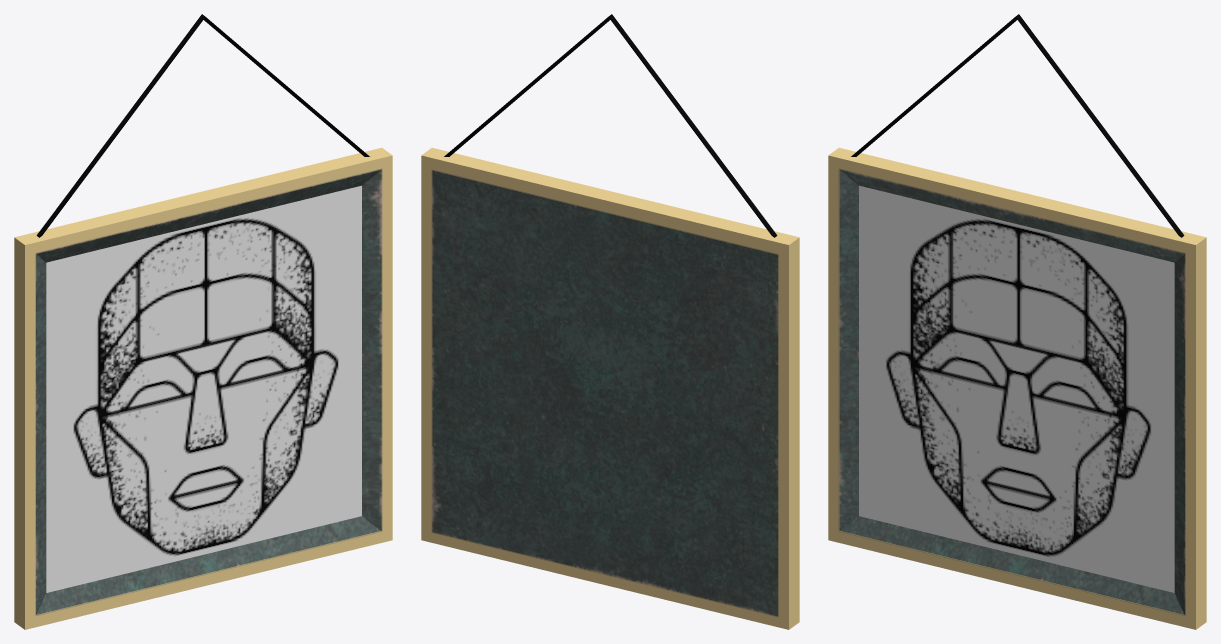
Rendered from Links_Frames_Big_CryptoAvatars.glb.
The picture shows the model from 3 angles, left to right: view 1: azimuth 30°, elevation 25°; view 2: azimuth 150°, elevation 25°; view 3: azimuth 330°, elevation 25°; orthographic projection.
Parts seen in each view (by area): view 1: Links_Frames_Big_CryptoAvatars; view 2: Links_Frames_Big_CryptoAvatars; view 3: Links_Frames_Big_CryptoAvatars.
Boxes of the visible parts, left/top/right/bottom form: Links_Frames_Big_CryptoAvatars: left=14, top=14, right=392, bottom=629; Links_Frames_Big_CryptoAvatars: left=421, top=14, right=799, bottom=629; Links_Frames_Big_CryptoAvatars: left=828, top=14, right=1206, bottom=629.
Size of the model in its own units: 2 by 2.94 by 0.1006.
2 materials, 2 textured.
